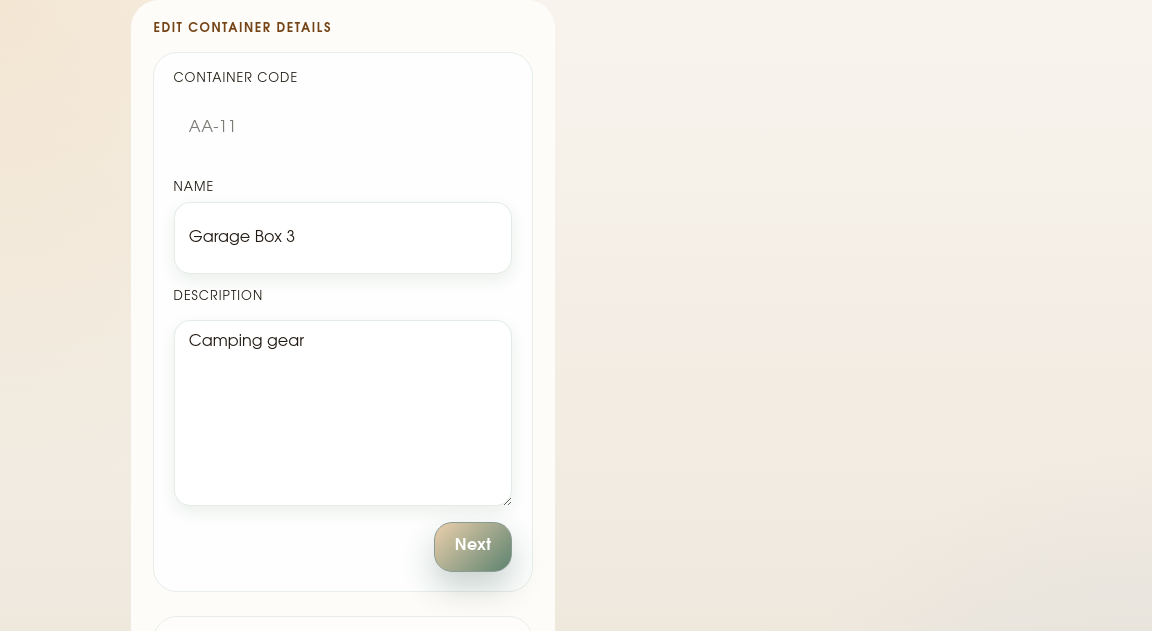
container detail route › saves room and tags before advancing to the images step
Click the button "Next" at point(473, 547), box top-left (434, 522), bottom-right (512, 572)
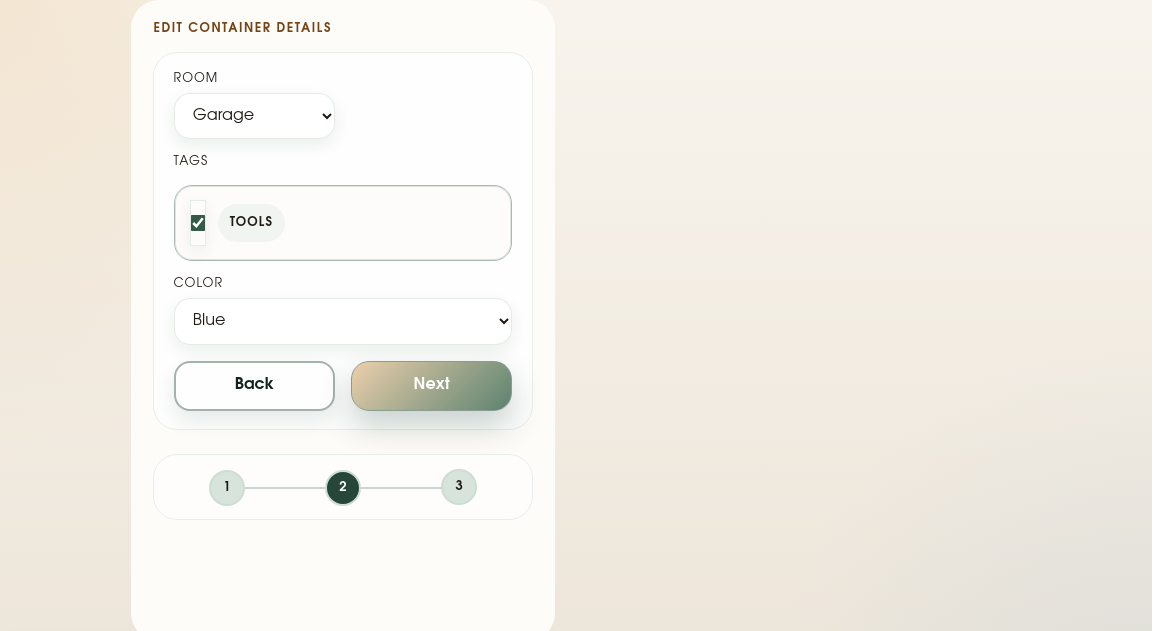
Now the dropdown labelled "Room" is shown
Select "Garage" in the dropdown labelled "Room" at point(254, 116), box top-left (174, 93), bottom-right (335, 139)
Click the button "Next" at point(432, 386), box top-left (351, 360), bottom-right (512, 411)
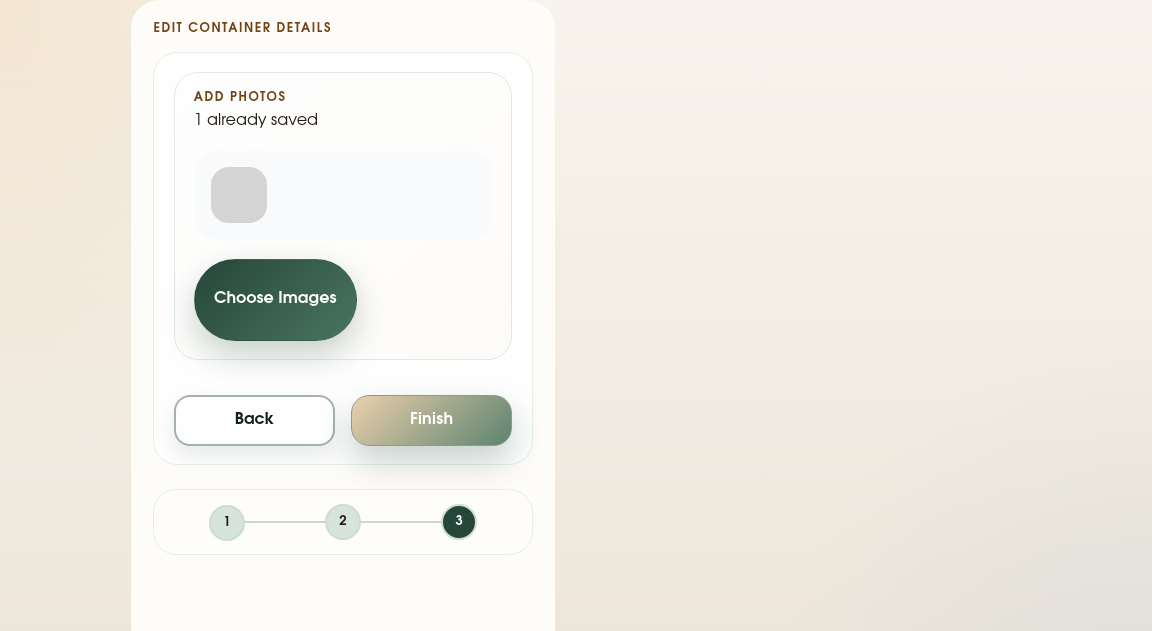
Now the text "1 already saved" is shown, box top-left (194, 113), bottom-right (318, 129)
